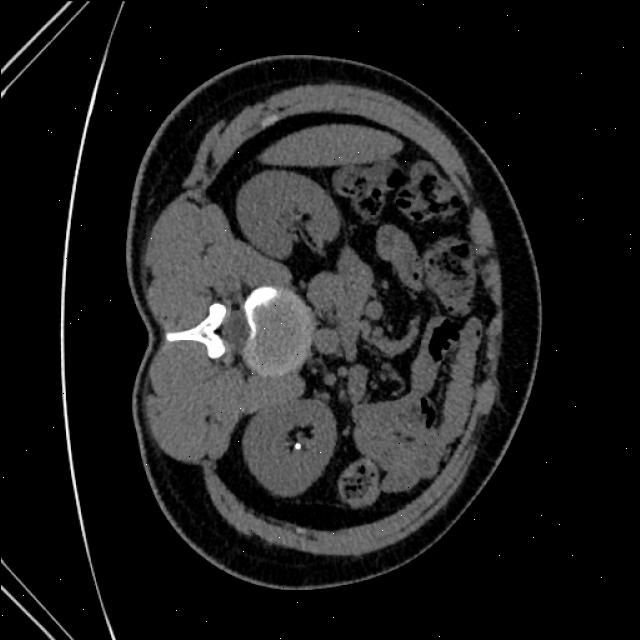kidneystone: (287, 430, 302, 452)
